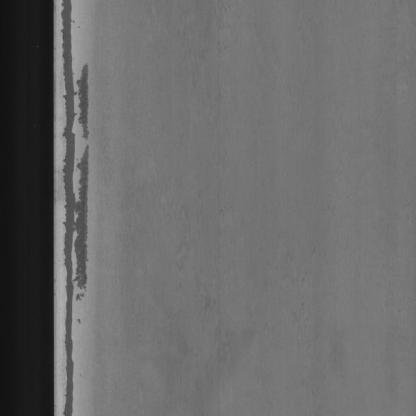oil_spot: (59, 2, 100, 416)
